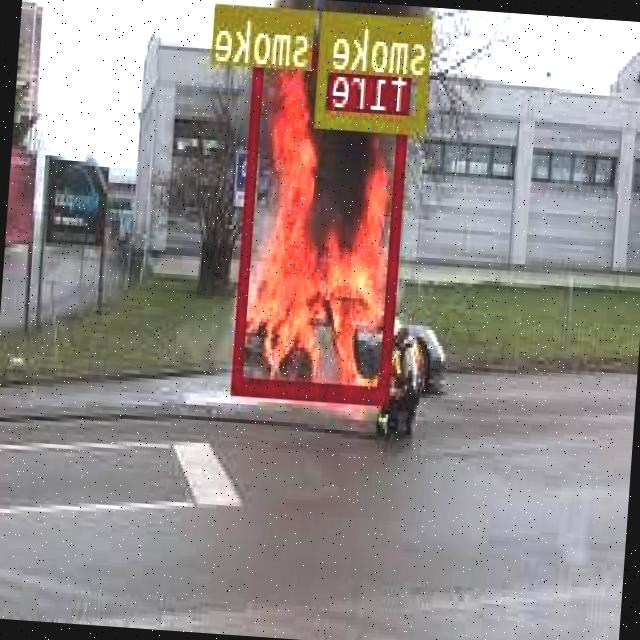fire: (234, 42, 415, 400)
smoke: (316, 8, 433, 131), (268, 6, 316, 62)
